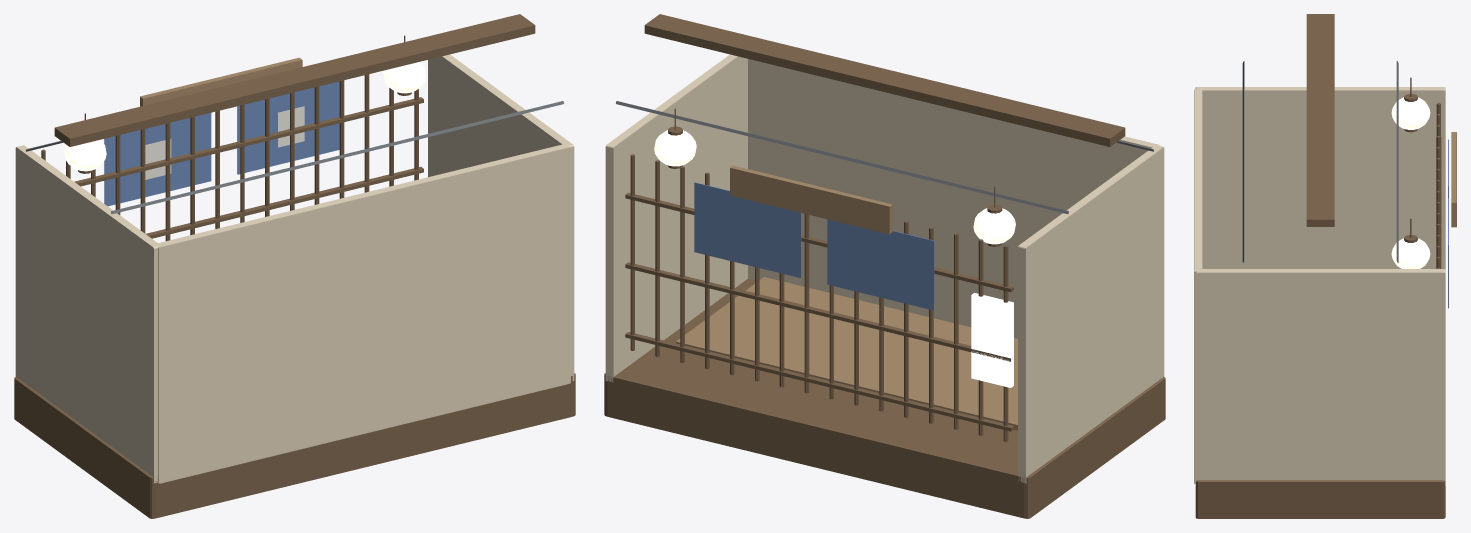
File: shop_facade.glb
3 renders of one model, left to right at view 1: azimuth 30°, elevation 25°; view 2: azimuth 150°, elevation 25°; view 3: azimuth 270°, elevation 25°, orthographic. The views are drawn at different scales.
Visible parts, largest first — view 1: shop_facade; view 2: shop_facade; view 3: shop_facade.
Boxes of the visible parts, <box> form: shop_facade: <box>14,14,575,518</box>; shop_facade: <box>604,14,1165,518</box>; shop_facade: <box>1194,14,1456,518</box>.
Bounding box in the file's own units: 3.5 × 2.45 × 1.89.
